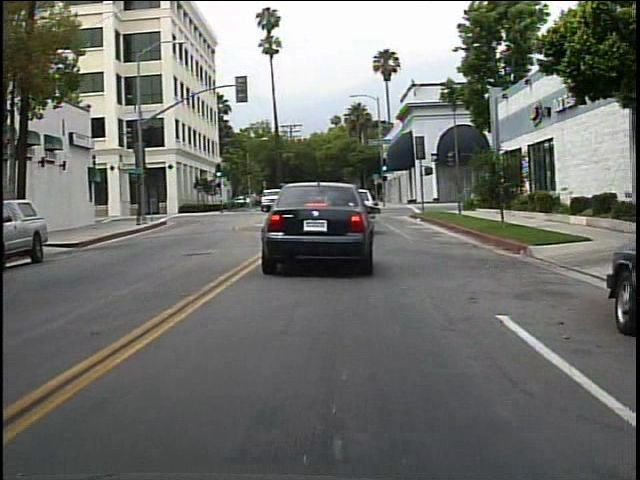person: (304, 182, 330, 221)
